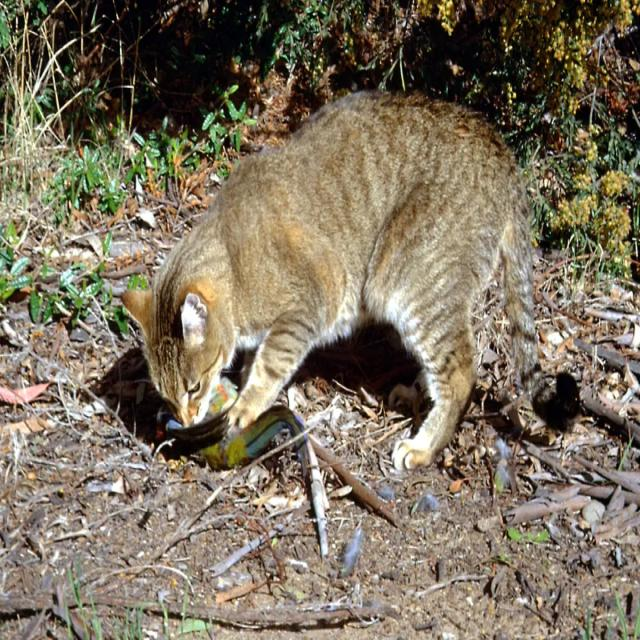cat: (122, 92, 579, 470)
